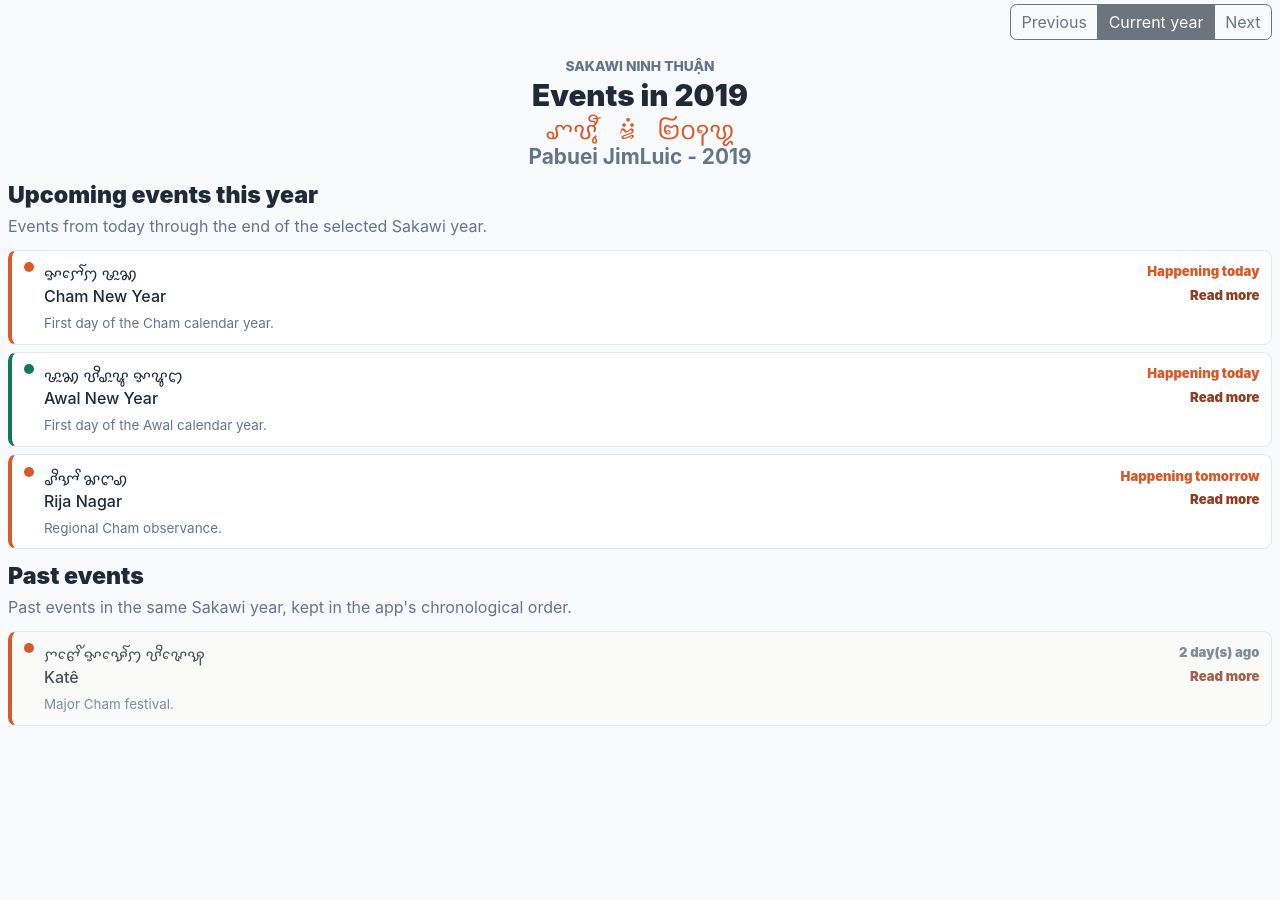
it: renders yearly timeline cards and opens event details in a dialog
The width and height of the screenshot is (1280, 900).
Expected: the heading "Events in 2019" is shown, 529,78 -> 751,112
Expected: the heading "Cham New Year" is shown, 44,286 -> 166,306
What coordinates should you click on to do the following:
click the button with aria-label "Cham New Year, Happening today"
I would click on:
 (90, 274)
Its box is 8,250 -> 1272,345.
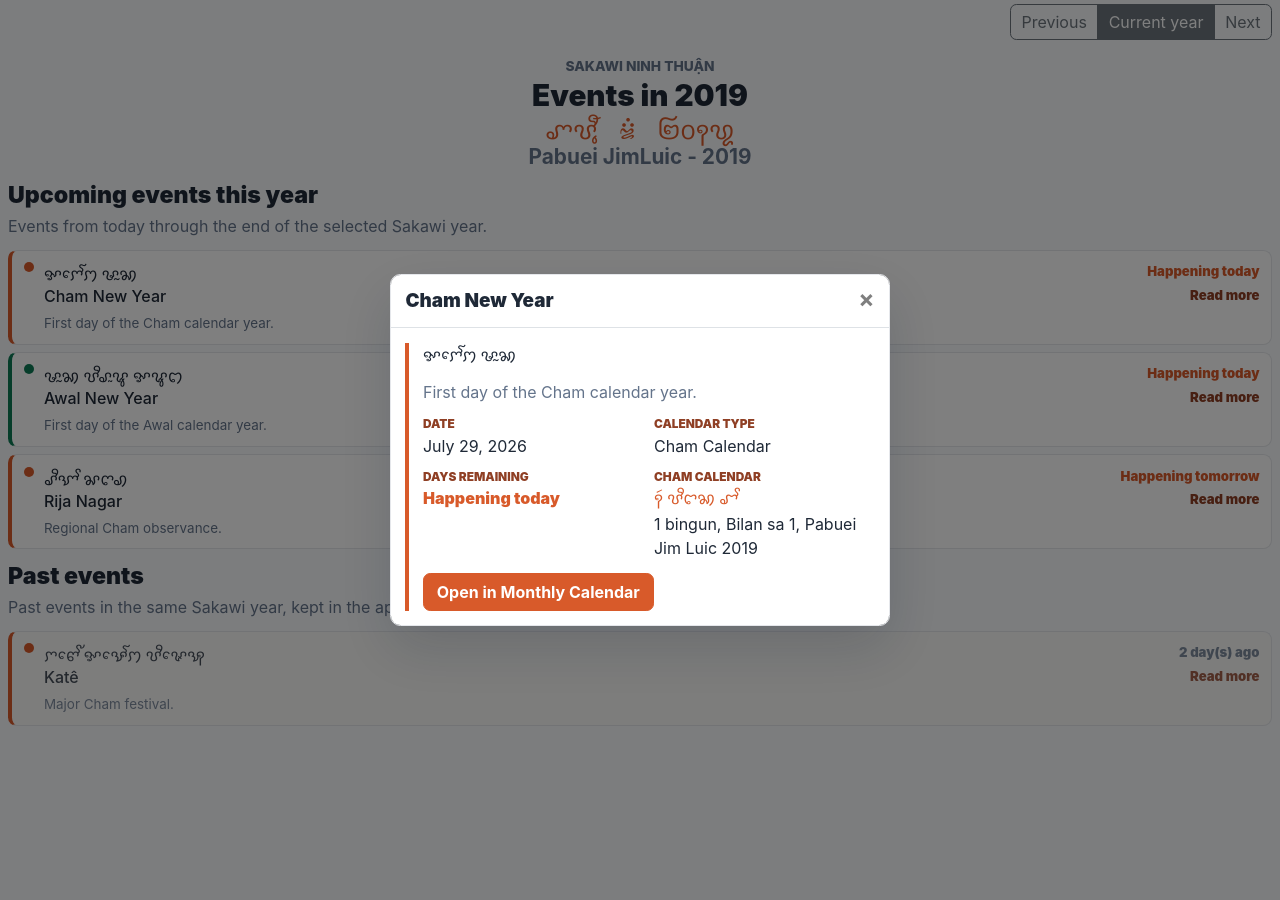
Expected: the dialog "Cham New Year" is shown, 390,274 -> 890,626
Expected: the text "July 29, 2026" is shown, 423,436 -> 527,456
Expected: the text "First day of the Cham calendar year." is shown, 423,382 -> 697,402
